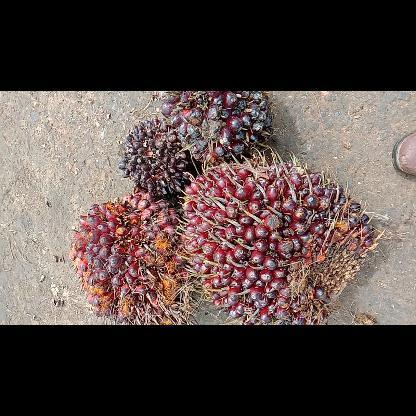Kurang masak: (178, 160, 380, 324), (157, 91, 277, 169)
TBS abnormal: (116, 116, 198, 198)
TBS masak: (67, 190, 194, 324)
